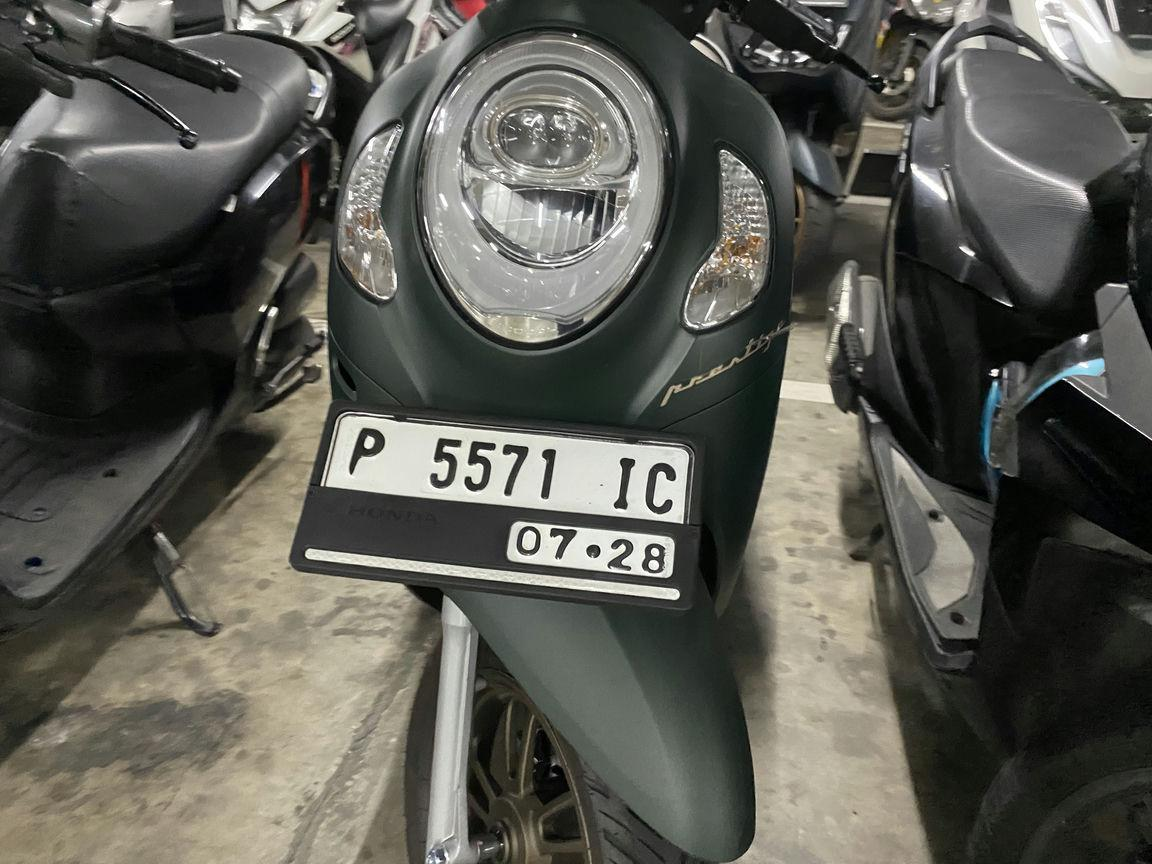plat: (290, 403, 700, 610)
